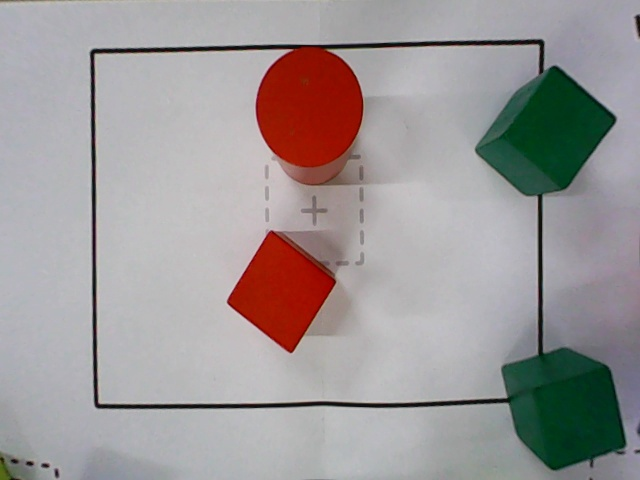upside of cylinder: (256, 47, 363, 166)
upside of small cube: (503, 65, 616, 188), (226, 230, 335, 354), (533, 367, 626, 471)
